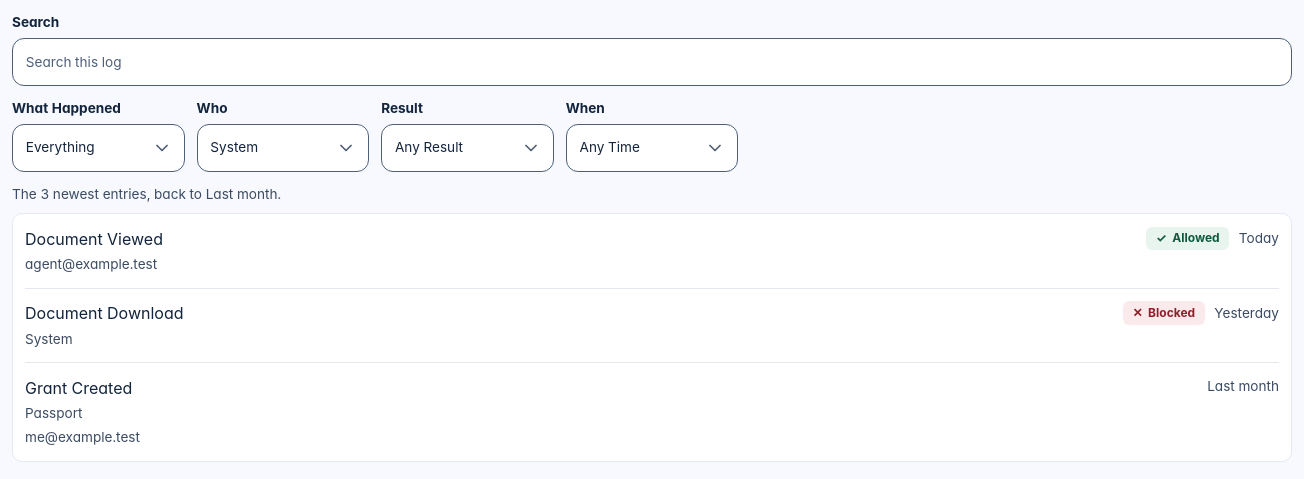
Test: the activity log › stops filtering by a value that has left the list after a refresh
This screenshot has width=1304, height=479.
Select "System" in the dropdown labelled "Who" at (283,148), box top-left (197, 124), bottom-right (369, 172)
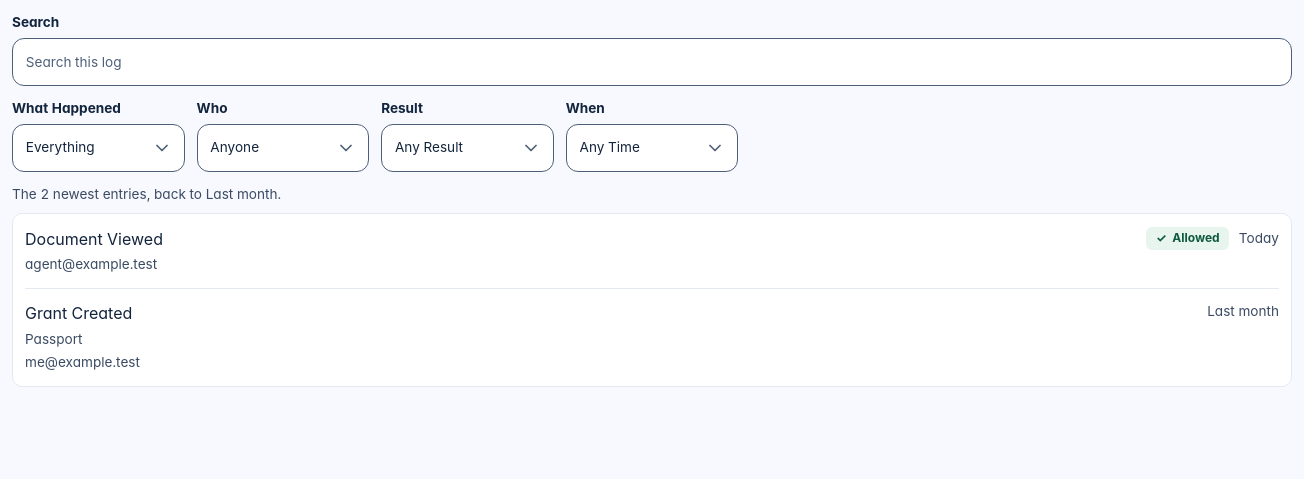
Result: the number of list items is 2 at top-left (25, 214), bottom-right (1279, 289); top-left (25, 289), bottom-right (1279, 386)
